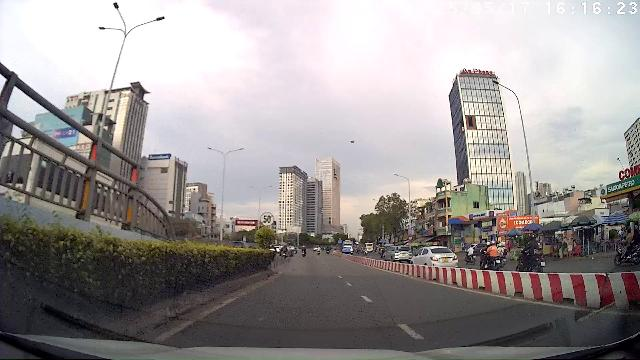134-het-han-che-toc-do-toi-da: (260, 211, 274, 226)
